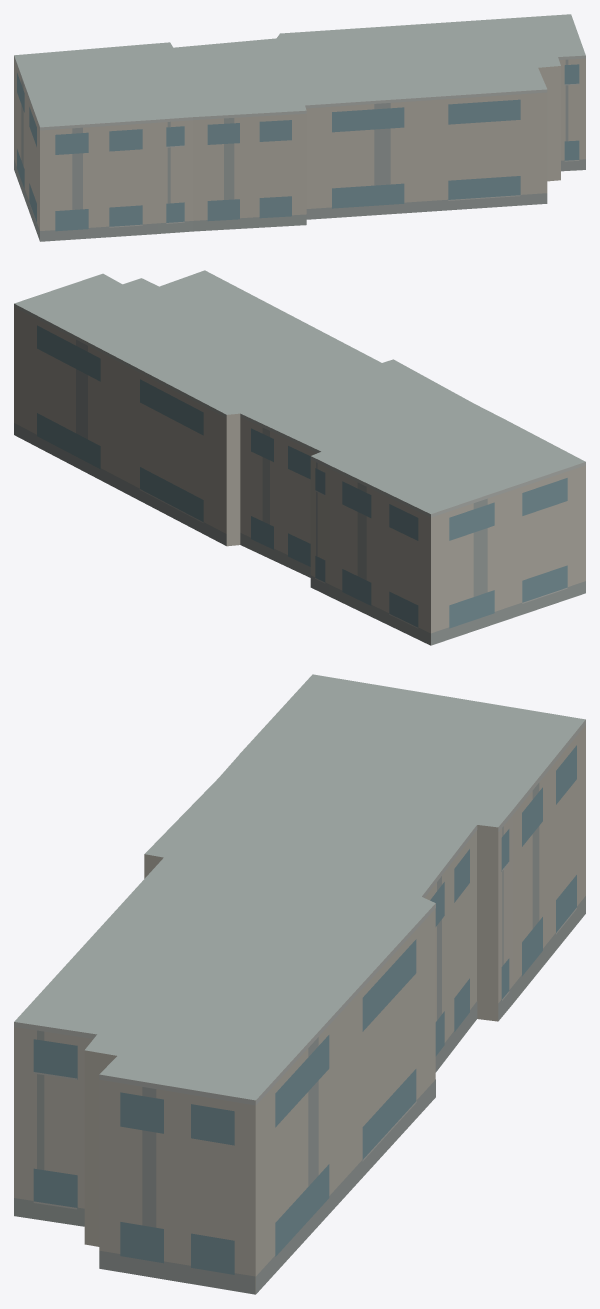
File: survey-upis-32531261.glb
3 views of the same model, one above another, from view 1: azimuth 30°, elevation 25°; view 2: azimuth 150°, elevation 25°; view 3: azimuth 270°, elevation 25° (orthographic). The views are drawn at different scales.
Visible parts, largest first — view 1: survey-upis-32531261.tmp; view 2: survey-upis-32531261.tmp; view 3: survey-upis-32531261.tmp.
Boxes of the visible parts, left/top/right/bottom form: survey-upis-32531261.tmp: left=14, top=14, right=585, bottom=241; survey-upis-32531261.tmp: left=14, top=270, right=585, bottom=645; survey-upis-32531261.tmp: left=14, top=674, right=585, bottom=1294.
Size of the model in its own units: 43.07 by 9.15 by 24.43.
